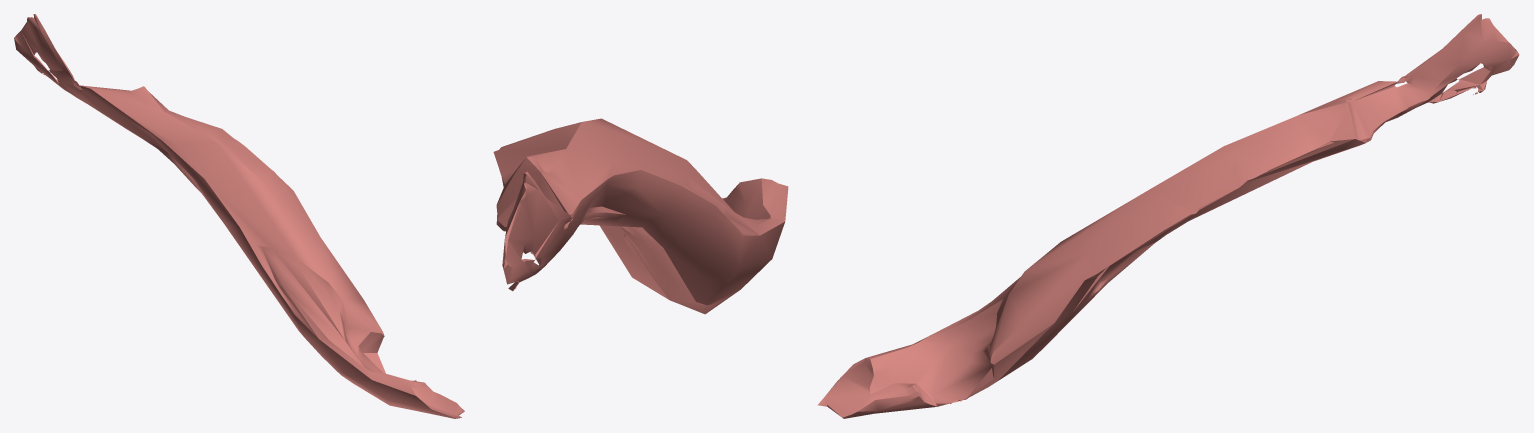
Rendered from fma45972_fj1396m.glb.
The picture shows the model from 3 angles, left to right: view 1: azimuth 30°, elevation 25°; view 2: azimuth 150°, elevation 25°; view 3: azimuth 270°, elevation 25°; orthographic projection. The views are drawn at different scales.
Parts seen in each view (by area): view 1: FMA45972_FJ1396M; view 2: FMA45972_FJ1396M; view 3: FMA45972_FJ1396M.
Boxes of the visible parts, bbox=[...] form: FMA45972_FJ1396M: bbox=[14, 14, 464, 418]; FMA45972_FJ1396M: bbox=[493, 118, 788, 314]; FMA45972_FJ1396M: bbox=[817, 14, 1519, 418].
Size of the model in its own units: 0.0271 by 0.0378 by 0.0769.
